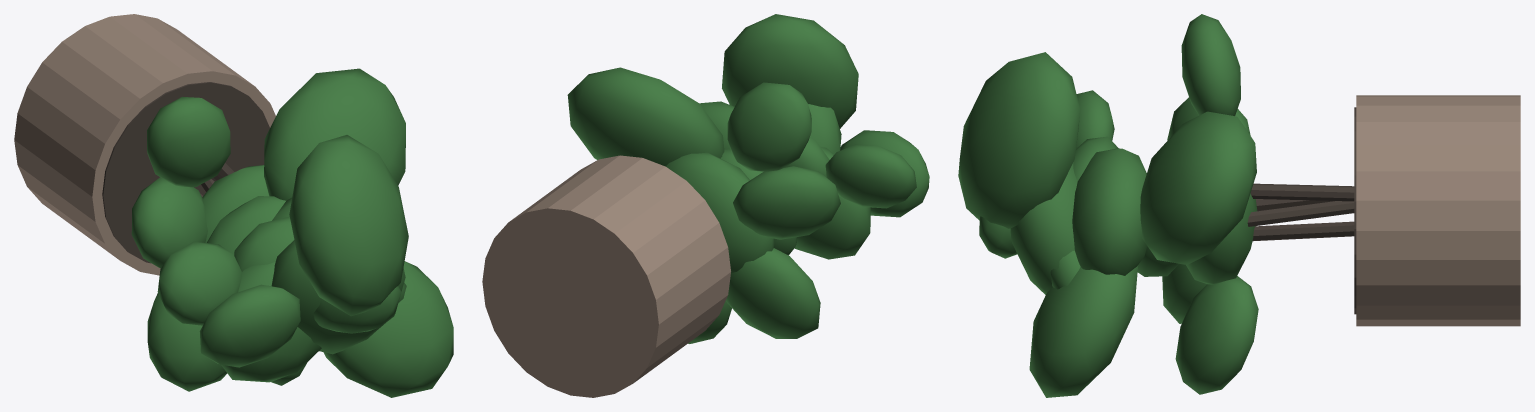
The model's file is lounge_plant.glb.
The picture shows the model from 3 angles, left to right: view 1: azimuth 30°, elevation 25°; view 2: azimuth 150°, elevation 25°; view 3: azimuth 270°, elevation 25°; orthographic projection. The views are drawn at different scales.
Visible parts, largest first — view 1: lounge_plant_pot, lounge_plant_leaf17, lounge_plant_leaf8, lounge_plant_leaf12, lounge_plant_soil, lounge_plant_leaf11, lounge_plant_leaf1, lounge_plant_leaf2, lounge_plant_leaf5, lounge_plant_leaf3, lounge_plant_leaf10, lounge_plant_leaf6 (+4 smaller); view 2: lounge_plant_pot, lounge_plant_leaf8, lounge_plant_leaf17, lounge_plant_leaf3, lounge_plant_leaf1, lounge_plant_leaf5, lounge_plant_leaf13, lounge_plant_leaf2, lounge_plant_leaf6, lounge_plant_leaf11, lounge_plant_leaf10, lounge_plant_leaf0 (+3 smaller); view 3: lounge_plant_pot, lounge_plant_leaf17, lounge_plant_leaf8, lounge_plant_leaf12, lounge_plant_leaf9, lounge_plant_leaf14, lounge_plant_leaf1, lounge_plant_leaf10, lounge_plant_leaf13, lounge_plant_stem1, lounge_plant_stem0, lounge_plant_stem3 (+9 smaller).
Boxes of the visible parts, box(x1,y1,x2,y2) form: lounge_plant_pot: box(14, 14, 275, 275); lounge_plant_leaf17: box(289, 135, 408, 316); lounge_plant_leaf8: box(264, 68, 405, 200); lounge_plant_leaf12: box(323, 261, 453, 397); lounge_plant_soil: box(102, 82, 269, 263); lounge_plant_leaf11: box(199, 284, 300, 367); lounge_plant_leaf1: box(147, 96, 230, 187); lounge_plant_leaf2: box(157, 241, 241, 325); lounge_plant_leaf5: box(131, 177, 207, 267); lounge_plant_leaf3: box(147, 293, 227, 391); lounge_plant_leaf10: box(271, 240, 405, 354); lounge_plant_leaf6: box(221, 262, 321, 382); lounge_plant_pot: box(482, 155, 730, 397); lounge_plant_leaf8: box(567, 67, 724, 166); lounge_plant_leaf17: box(722, 14, 858, 128); lounge_plant_leaf3: box(725, 248, 820, 338); lounge_plant_leaf1: box(727, 82, 811, 171); lounge_plant_leaf5: box(733, 166, 840, 239); lounge_plant_leaf13: box(665, 152, 774, 272); lounge_plant_leaf2: box(825, 144, 916, 208); lounge_plant_leaf6: box(794, 147, 870, 259); lounge_plant_leaf11: box(840, 130, 929, 217); lounge_plant_leaf10: box(808, 104, 841, 154); lounge_plant_leaf0: box(784, 137, 829, 177); lounge_plant_pot: box(1356, 95, 1520, 326); lounge_plant_leaf17: box(958, 52, 1080, 228); lounge_plant_leaf8: box(1140, 111, 1256, 264); lounge_plant_leaf12: box(1029, 265, 1137, 397); lounge_plant_leaf9: box(1072, 148, 1147, 275); lounge_plant_leaf14: box(1175, 276, 1258, 394); lounge_plant_leaf1: box(1181, 14, 1240, 115); lounge_plant_leaf10: box(1010, 162, 1077, 294); lounge_plant_leaf13: box(1186, 193, 1257, 284); lounge_plant_stem1: box(1250, 183, 1354, 201); lounge_plant_stem0: box(1247, 201, 1354, 226); lounge_plant_stem3: box(1252, 221, 1354, 241).
Size of the model in its own units: 0.8781 by 0.8373 by 1.34.
